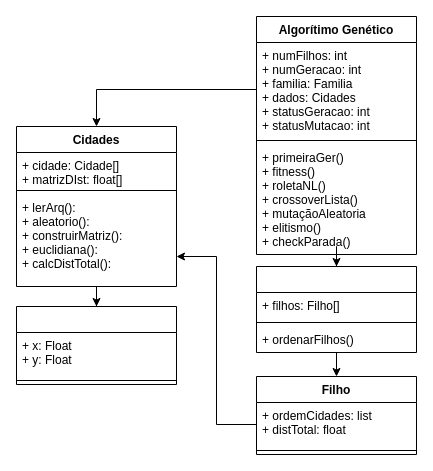
Image size: 433x471. Some labels were removed from this diagram. Here are the shapes that lost their labels. From the top down, the box of each, then its label:
(256, 266, 416, 352): Família
(16, 306, 176, 384): Cidade
